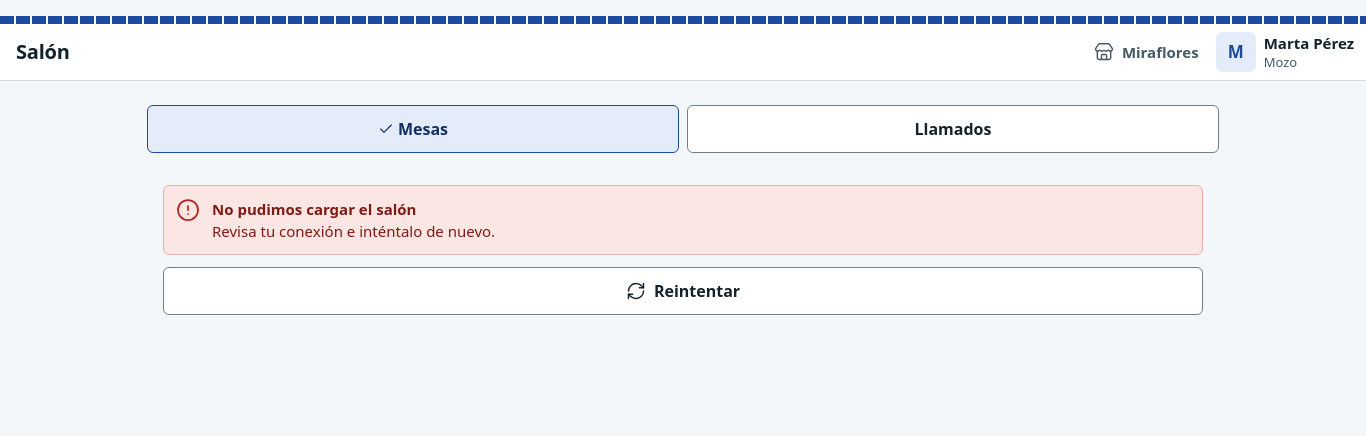
Test case: Salón: estados vacíos y de carga (criterio 88) › si no carga, dice el problema y deja reintentar en la misma pantalla
(page scrolled)
Expected: the text "No pudimos cargar el salón" is shown, top-left (212, 199), bottom-right (416, 219)
What coordinates should you click on to do the following:
click the button "Reintentar"
I would click on:
 (683, 291)
Its box is top-left (163, 267), bottom-right (1203, 315).
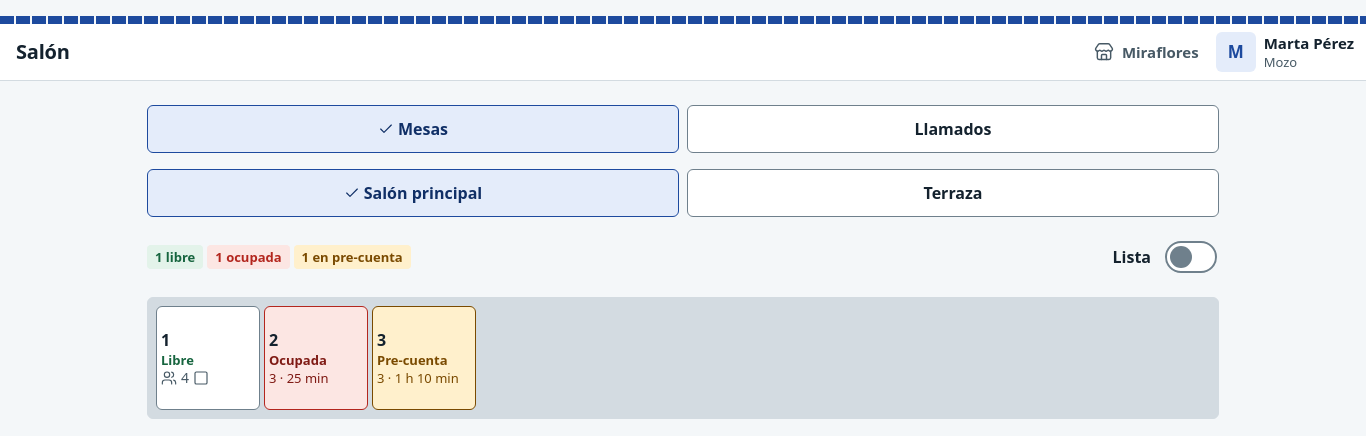
Expected: the table named "Mesas de Salón principal" is shown, top-left (147, 297), bottom-right (1219, 419)
